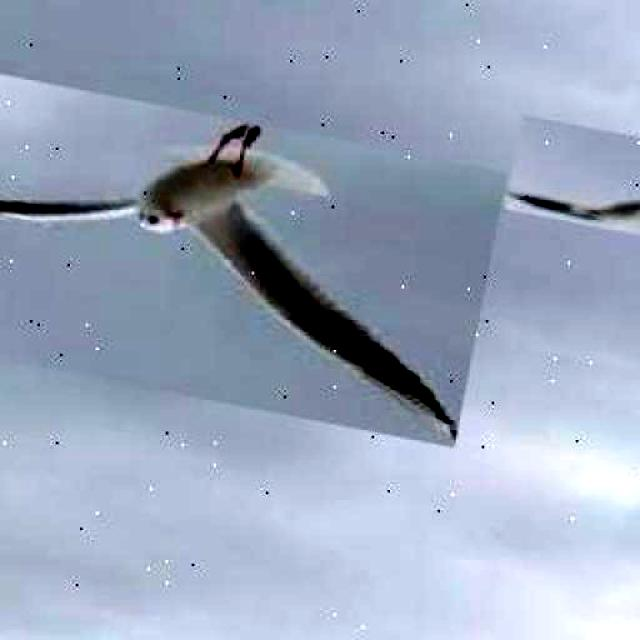airplane: (0, 65, 509, 449), (505, 115, 640, 252)
